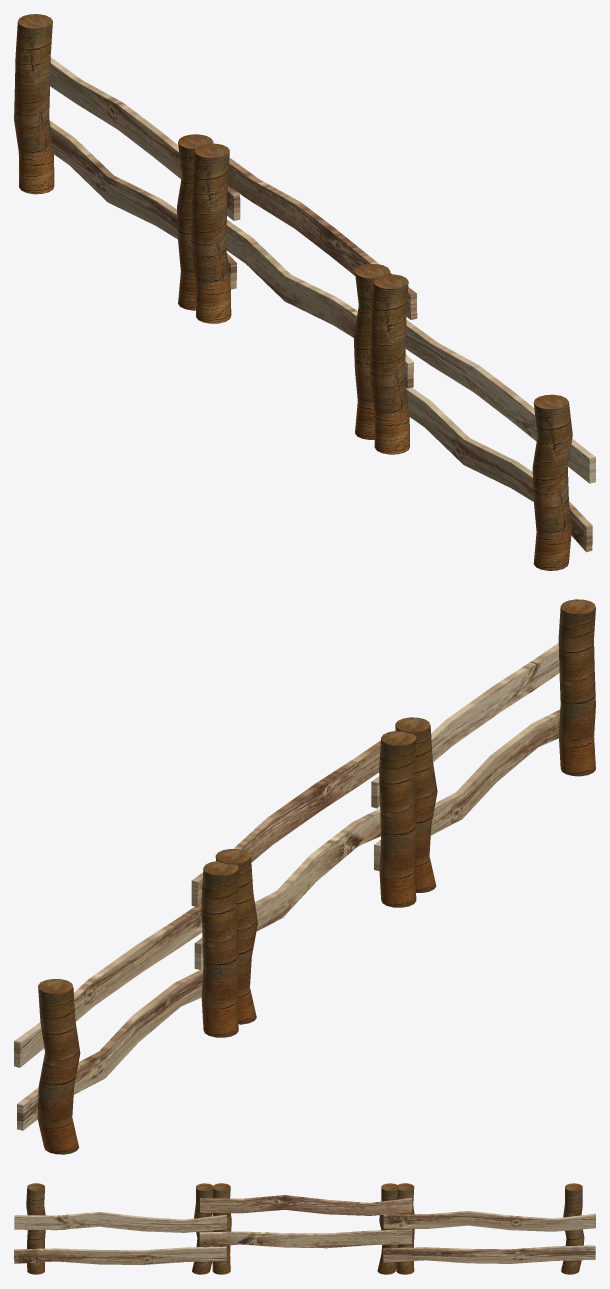
The model's file is Rangé 3 barrières droites.FBX.
3 views of the same model, one above another, from view 1: azimuth 30°, elevation 25°; view 2: azimuth 150°, elevation 25°; view 3: azimuth 270°, elevation 25° (orthographic). The views are drawn at different scales.
Parts seen in each view (by area): view 1: Cylinder005, Cylinder004, Cylinder002, Cylinder006, Box005, Box006, Box001, Box004, Box002, Box003, Cylinder001, Cylinder003; view 2: Cylinder006, Cylinder001, Cylinder003, Cylinder004, Box004, Box003, Box001, Box005, Box006, Box002, Cylinder005, Cylinder002; view 3: Box001, Box005, Box004, Box003, Box002, Box006, Cylinder004, Cylinder006, Cylinder001, Cylinder005, Cylinder002, Cylinder003.
Boxes of the visible parts, x1,y1,x2,y2 form: Cylinder005: (369, 274, 409, 454); Cylinder004: (14, 14, 54, 194); Cylinder002: (191, 143, 231, 323); Cylinder006: (532, 394, 572, 570); Box005: (405, 319, 595, 483); Box006: (406, 387, 592, 552); Box001: (227, 157, 417, 319); Box004: (50, 57, 240, 220); Box002: (226, 220, 413, 388); Box003: (49, 120, 236, 289); Cylinder001: (353, 264, 390, 439); Cylinder003: (177, 134, 213, 310); Cylinder006: (558, 599, 595, 776); Cylinder001: (379, 730, 416, 907); Cylinder003: (201, 861, 238, 1037); Cylinder004: (37, 979, 80, 1154); Box004: (14, 904, 202, 1067); Box003: (17, 969, 203, 1130); Box001: (191, 730, 395, 907); Box005: (371, 643, 559, 808); Box006: (374, 709, 560, 871); Box002: (194, 808, 380, 969); Cylinder005: (395, 717, 437, 892); Cylinder002: (215, 849, 257, 1024); Box001: (200, 1195, 412, 1215); Box005: (14, 1212, 226, 1232); Box004: (383, 1211, 595, 1231); Box003: (383, 1245, 595, 1263); Box002: (199, 1229, 412, 1248); Box006: (14, 1246, 226, 1264); Cylinder004: (561, 1183, 584, 1274); Cylinder006: (26, 1183, 45, 1274); Cylinder001: (212, 1183, 231, 1274); Cylinder005: (192, 1183, 213, 1274); Cylinder002: (377, 1183, 399, 1274); Cylinder003: (396, 1183, 414, 1274).
Size of the model in its own units: 18.64 by 59.94 by 375.
2 materials, 2 textured.
